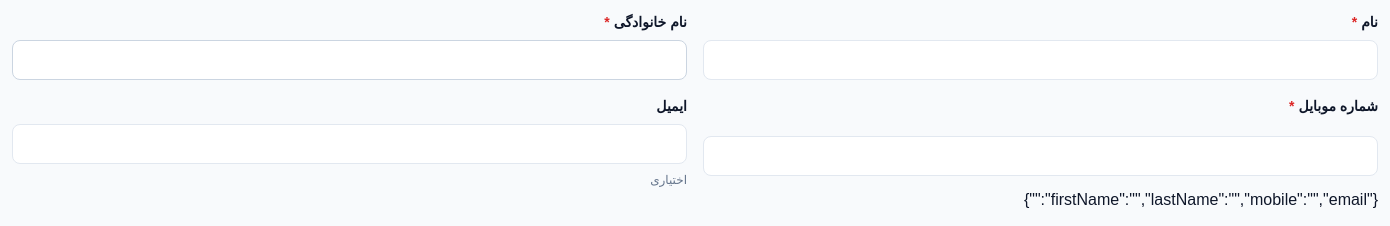
Test case: CreateUserFields › updates only identity fields and contains no role or permission controls
Type "مریم" into the field with id "test-user-first-name". click: (1040, 60)
box: left=703, top=40, right=1378, bottom=80
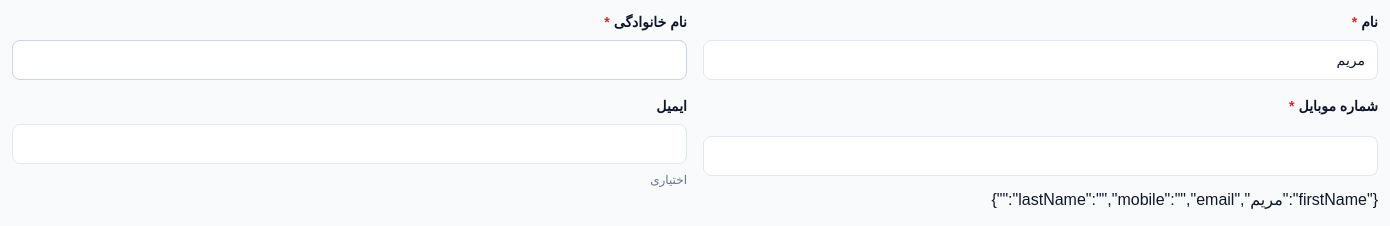
Type "09120000000" into the field with id "test-user-mobile". click: (1040, 156)
box: left=703, top=136, right=1378, bottom=176
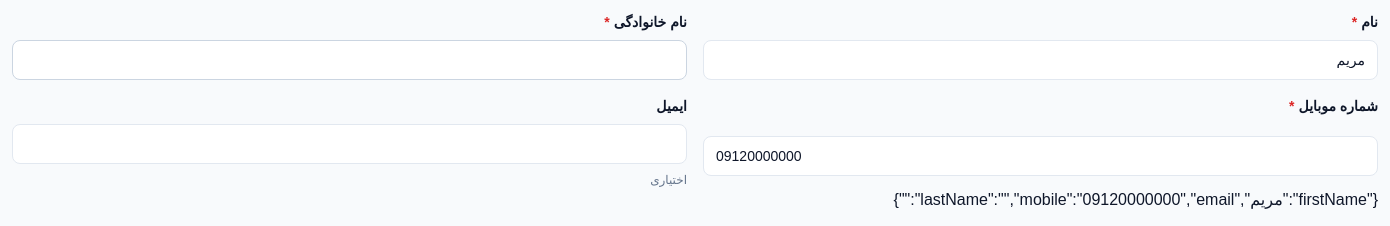
expect the text with test id "identity-value" shows "مریم": met, box left=894, top=191, right=1378, bottom=208
expect the text with test id "identity-value" shows "09120000000": met, box left=894, top=191, right=1378, bottom=208
